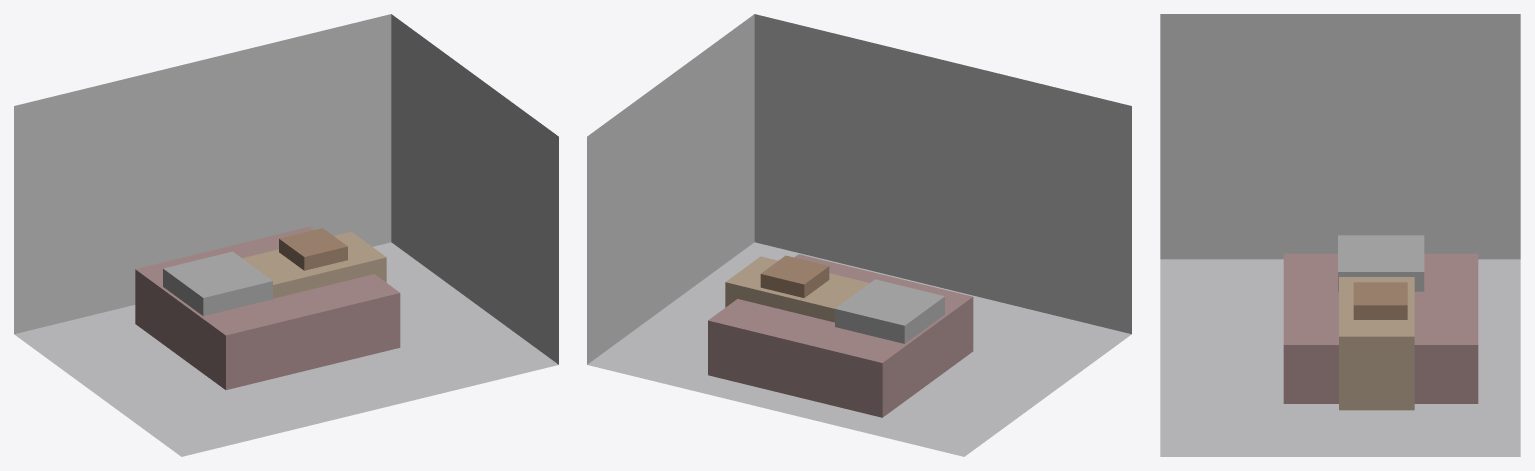
The model's file is current_layout.glb.
The picture shows the model from 3 angles, left to right: view 1: azimuth 30°, elevation 25°; view 2: azimuth 150°, elevation 25°; view 3: azimuth 270°, elevation 25°; orthographic projection. The views are drawn at different scales.
Visible parts, largest first — view 1: room, bed, wardrobe, desk, chair; view 2: room, bed, wardrobe, desk, chair; view 3: room, bed, desk, wardrobe, chair.
Part boxes in pixels (x1,y1,x2,y2): room: [14, 14, 558, 456]; bed: [135, 226, 400, 389]; wardrobe: [163, 251, 272, 316]; desk: [242, 231, 386, 298]; chair: [279, 228, 347, 270]; room: [587, 14, 1131, 456]; bed: [708, 254, 973, 417]; wardrobe: [835, 279, 944, 343]; desk: [725, 256, 869, 322]; chair: [760, 255, 829, 297]; room: [1160, 14, 1520, 456]; bed: [1283, 253, 1478, 403]; desk: [1339, 277, 1414, 410]; wardrobe: [1338, 235, 1424, 291]; chair: [1353, 282, 1407, 319].
Size of the model in its own units: 4.32 by 2.5 by 3.33.
